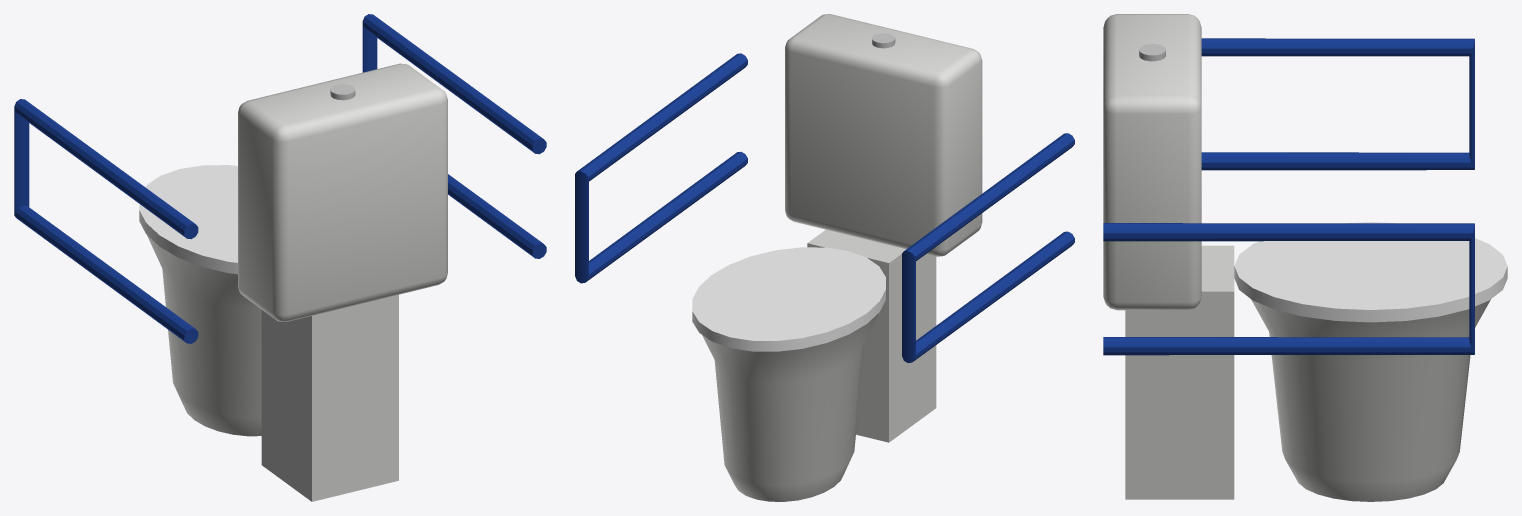
File: furniture.home.accessible_wc.glb
3 views of the same model, side by side, from view 1: azimuth 30°, elevation 25°; view 2: azimuth 150°, elevation 25°; view 3: azimuth 270°, elevation 25° (orthographic). The views are drawn at different scales.
Visible parts, largest first — view 1: pan__ceramic, main__plastic_blue, pan__plastic_white; view 2: pan__ceramic, pan__plastic_white, main__plastic_blue; view 3: pan__ceramic, main__plastic_blue, pan__plastic_white.
Boxes of the visible parts, x1,y1,x2,y2 form: pan__ceramic: (147, 63, 447, 501); main__plastic_blue: (14, 14, 546, 343); pan__plastic_white: (139, 165, 237, 274); pan__ceramic: (702, 14, 982, 501); pan__plastic_white: (692, 247, 885, 351); main__plastic_blue: (575, 53, 1074, 362); pan__ceramic: (1103, 14, 1490, 501); main__plastic_blue: (1103, 38, 1474, 355); pan__plastic_white: (1234, 222, 1507, 322).
Bounding box in the file's own units: 0.8323 × 0.862 × 0.74.
